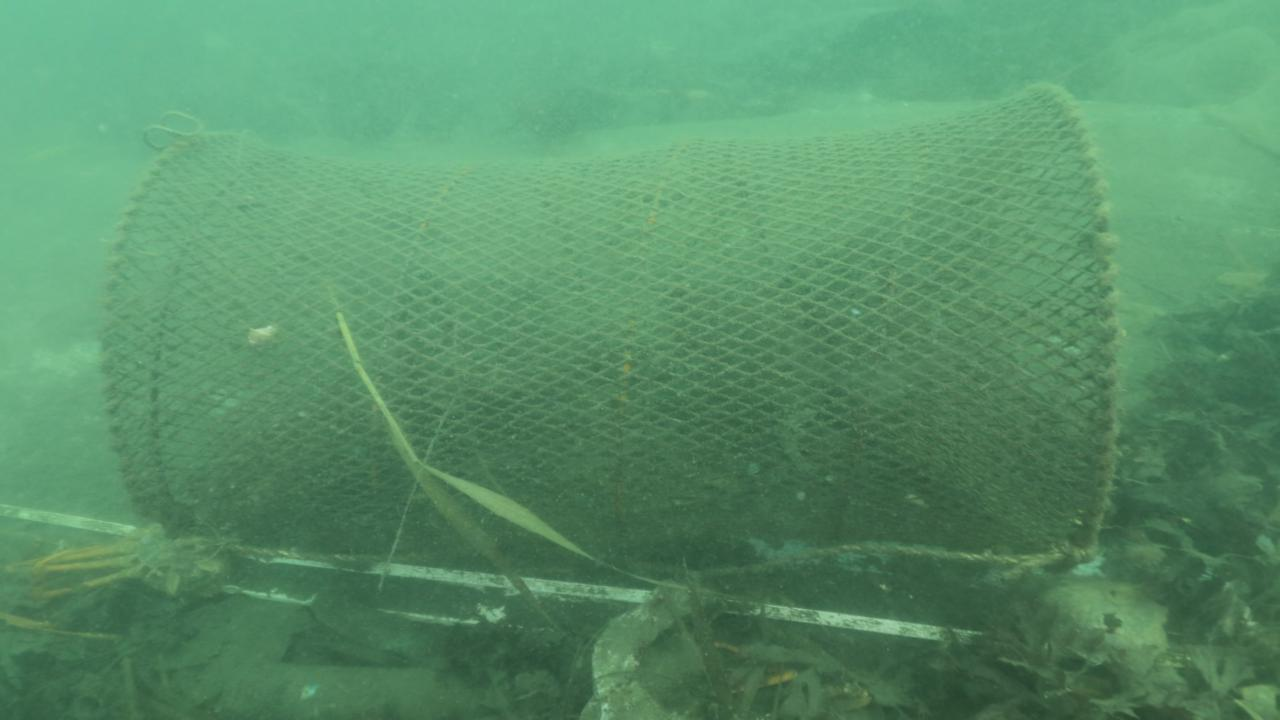spring fish trap: (95, 78, 1119, 598)
